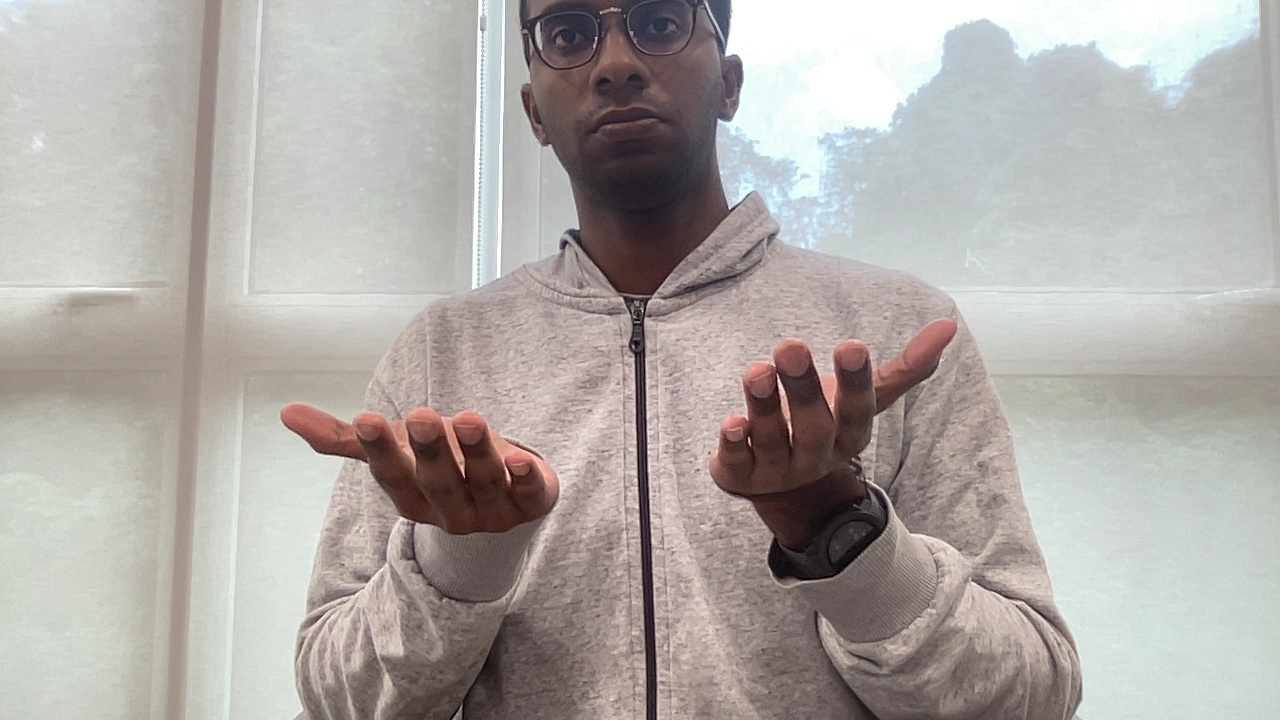give: (275, 312, 967, 539)
